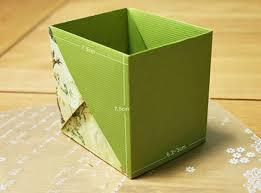box: (48, 6, 212, 180)
